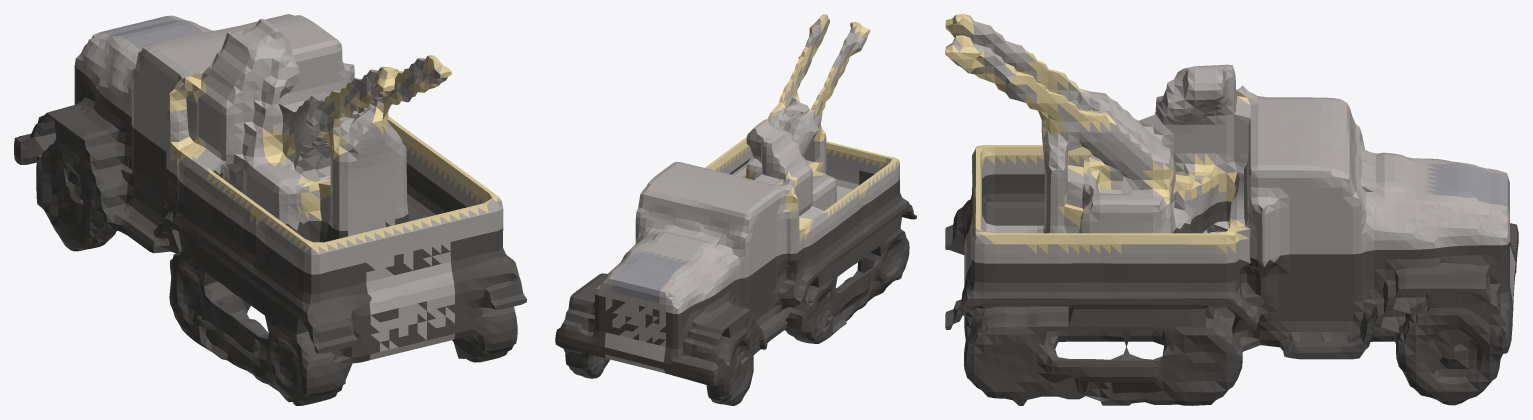
File: unit_sperrwagen.glb
3 views of the same model, side by side, from view 1: azimuth 30°, elevation 25°; view 2: azimuth 150°, elevation 25°; view 3: azimuth 270°, elevation 25° (orthographic). The views are drawn at different scales.
Parts seen in each view (by area): view 1: Mesh_0.009; view 2: Mesh_0.009; view 3: Mesh_0.009.
Boxes of the visible parts, box(x1,y1,x2,y2) form: Mesh_0.009: box(14, 14, 526, 405); Mesh_0.009: box(555, 14, 916, 405); Mesh_0.009: box(945, 14, 1518, 405).
Size of the model in its own units: 1.23 by 1.72 by 2.7.
